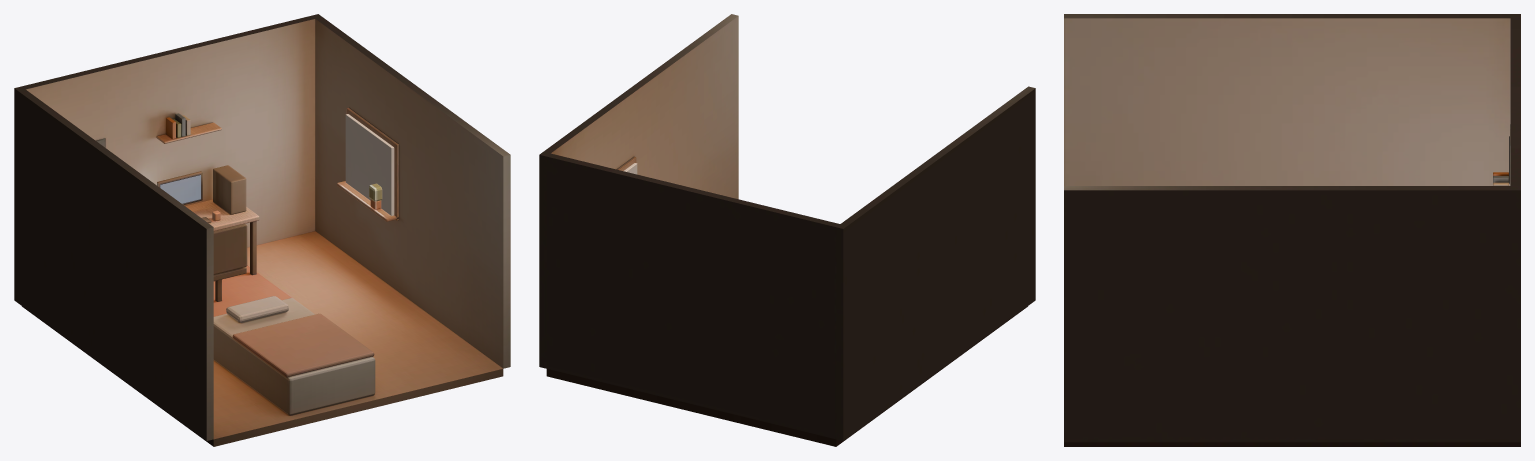
Rendered from room.glb.
3 views of the same model, side by side, from view 1: azimuth 30°, elevation 25°; view 2: azimuth 150°, elevation 25°; view 3: azimuth 270°, elevation 25° (orthographic). The views are drawn at different scales.
Visible parts, largest first — view 1: room_scenery, bed, window, system_unit, monitor; view 2: room_scenery; view 3: room_scenery.
Part boxes in pixels (x1,y1,x2,y2): room_scenery: (14, 14, 510, 446); bed: (213, 296, 375, 415); window: (345, 114, 394, 215); system_unit: (213, 165, 246, 214); monitor: (157, 171, 202, 204); room_scenery: (539, 14, 1035, 446); room_scenery: (1064, 14, 1520, 446).
Size of the model in its own units: 4.2 by 2.9 by 4.6.
1 material, 1 textured.
